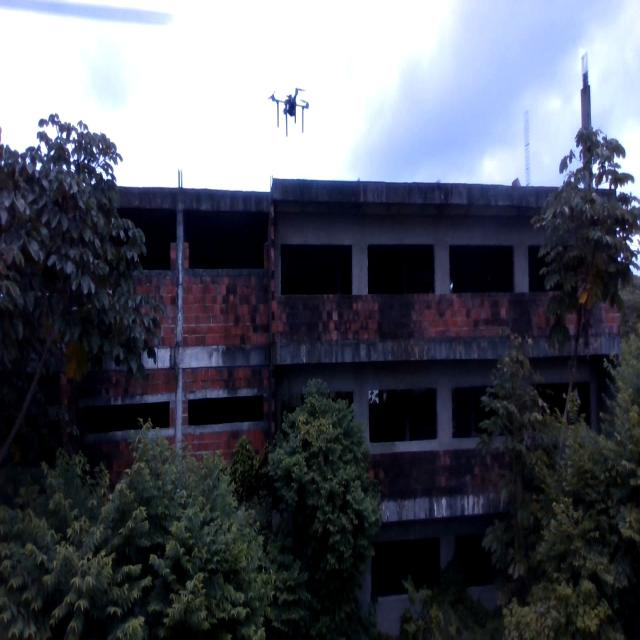-uav-: (257, 80, 324, 141)
